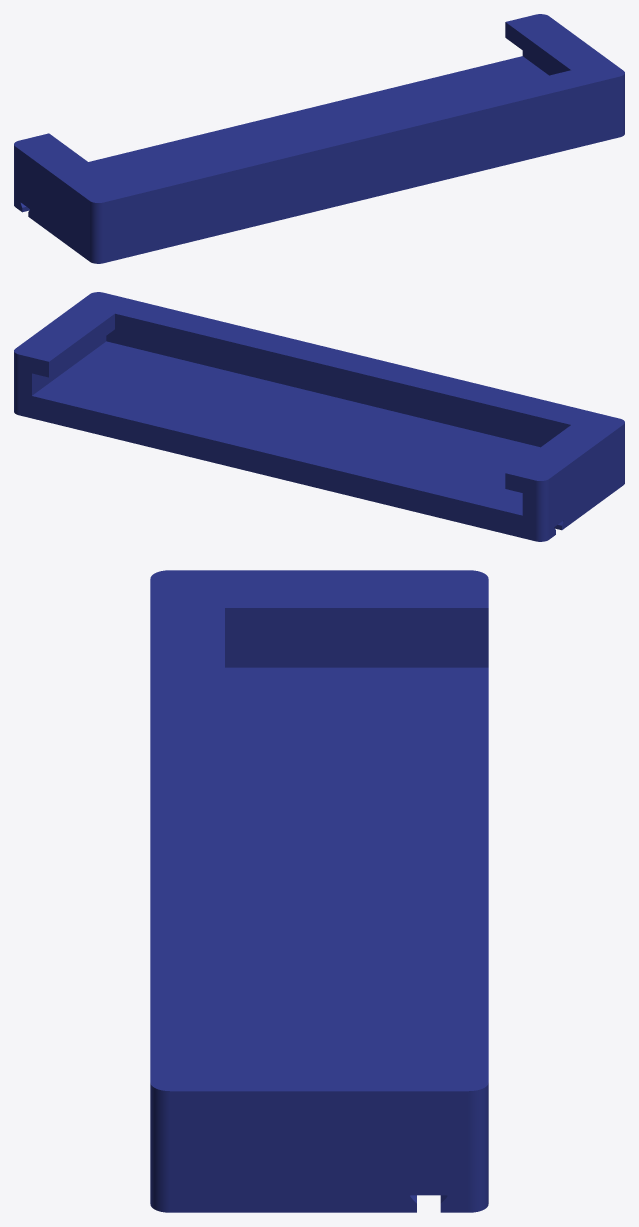
Rendered from TextBlock.obj.
3 renders of one model, top to bottom at view 1: azimuth 30°, elevation 25°; view 2: azimuth 150°, elevation 25°; view 3: azimuth 270°, elevation 25°, orthographic. The views are drawn at different scales.
Visible parts, largest first — view 1: Body1; view 2: Body1; view 3: Body1.
Part boxes in pixels (<box>): Body1: <box>14,14,624,263</box>; Body1: <box>14,292,624,541</box>; Body1: <box>150,570,488,1212</box>.
Bounding box in the file's own units: 124 × 13.5 × 34.
